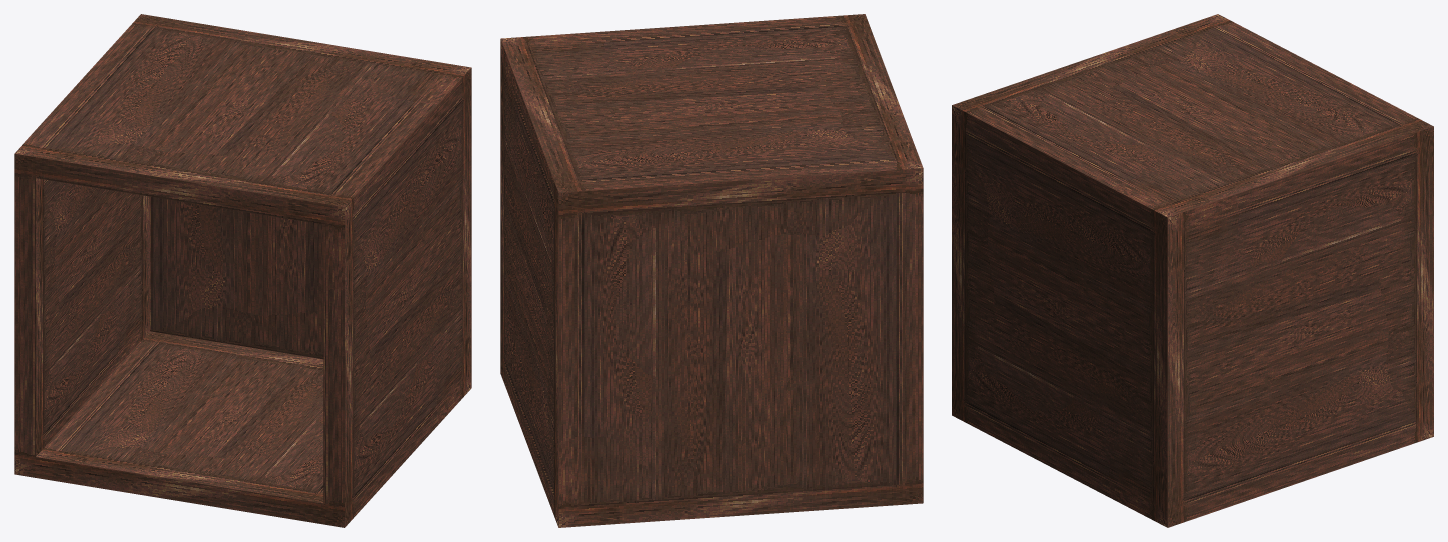
The model's file is crate-1-open.glb.
3 views of the same model, side by side, from view 1: azimuth 30°, elevation 25°; view 2: azimuth 150°, elevation 25°; view 3: azimuth 270°, elevation 25° (orthographic). The views are drawn at different scales.
Parts seen in each view (by area): view 1: Crate_1_open; view 2: Crate_1_open; view 3: Crate_1_open.
Boxes of the visible parts, bbox=[...] form: Crate_1_open: bbox=[14, 14, 471, 527]; Crate_1_open: bbox=[500, 14, 923, 527]; Crate_1_open: bbox=[952, 14, 1433, 527].
Size of the model in its own units: 0.7773 by 0.5526 by 0.7773.
Materials: 1 (1 with a texture image).
